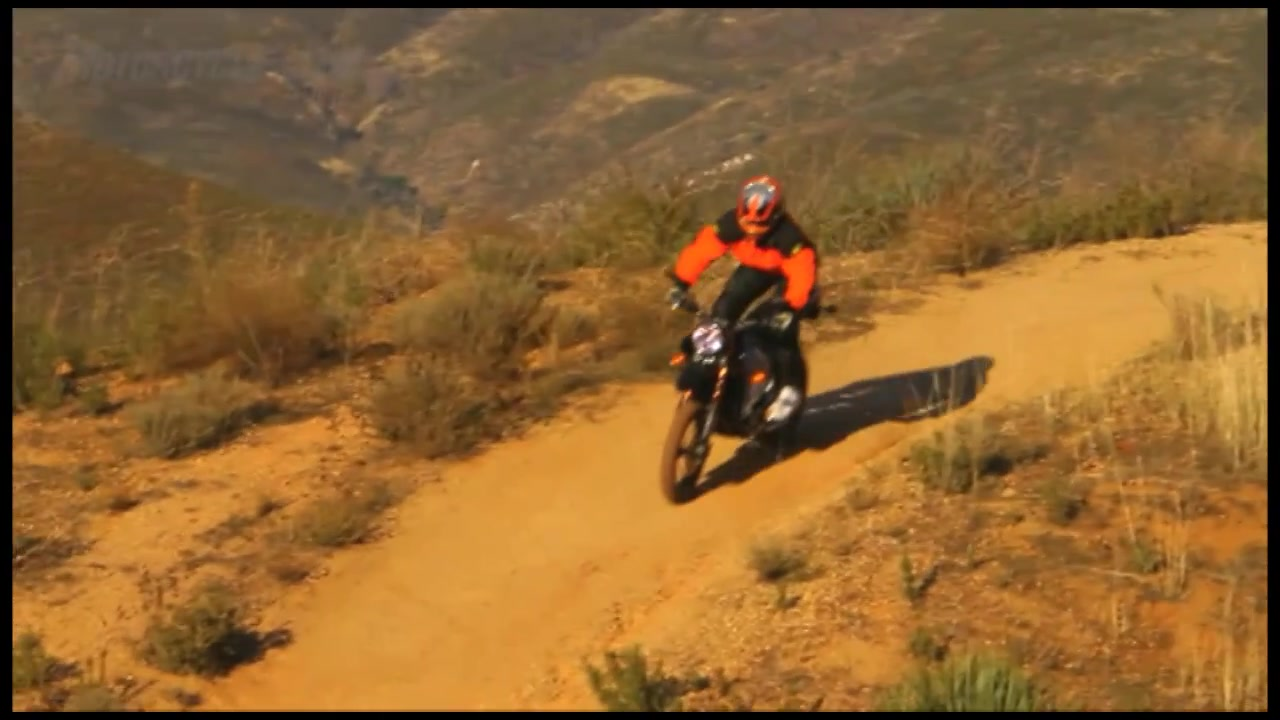motorbike: (657, 288, 810, 509)
